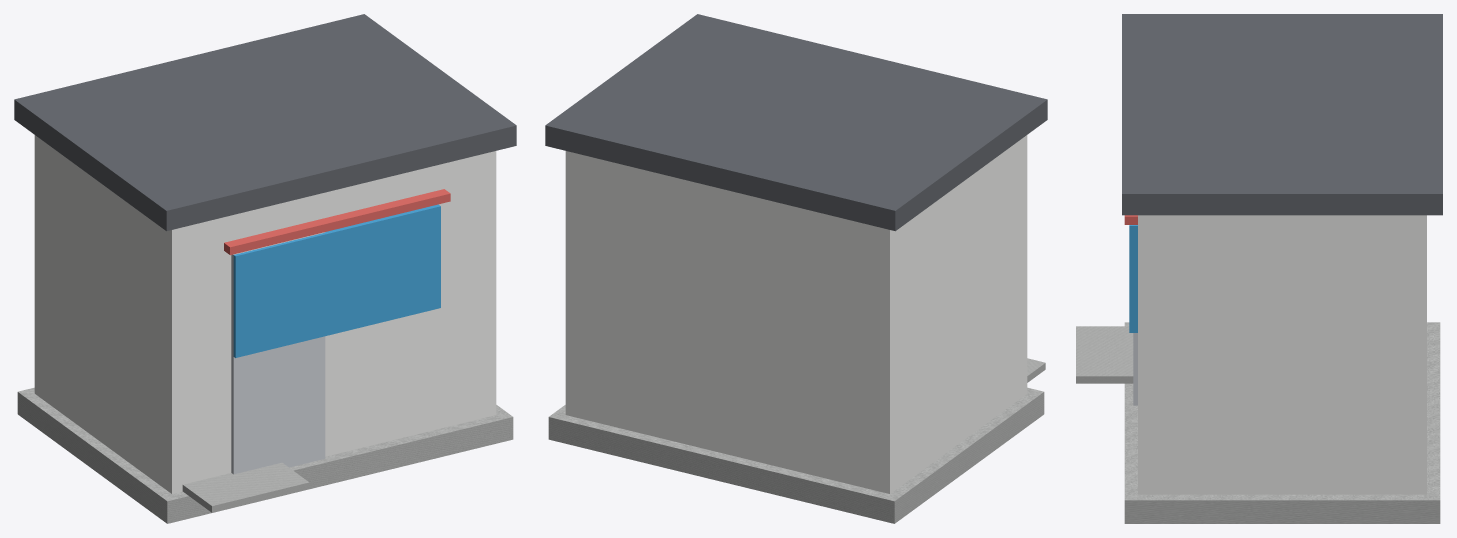
Rendered from velodrome-and-track-cycling-timing-hut-42e2d725__37992.glb.
3 renders of one model, left to right at view 1: azimuth 30°, elevation 25°; view 2: azimuth 150°, elevation 25°; view 3: azimuth 270°, elevation 25°, orthographic. The views are drawn at different scales.
Visible parts, largest first — view 1: timing-hut-chalk, timing-hut-charcoal, timing-hut-azure, timing-hut-apron, door-hut, timing-hut-red; view 2: timing-hut-chalk, timing-hut-charcoal, timing-hut-apron; view 3: timing-hut-chalk, timing-hut-charcoal, timing-hut-apron, timing-hut-azure.
Part boxes in pixels (x1,y1,x2,y2): timing-hut-chalk: (34, 135, 496, 493); timing-hut-charcoal: (14, 14, 516, 231); timing-hut-azure: (233, 204, 440, 357); timing-hut-apron: (17, 387, 513, 523); door-hut: (231, 232, 325, 474); timing-hut-red: (224, 189, 450, 255); timing-hut-chalk: (565, 135, 1027, 493); timing-hut-charcoal: (545, 14, 1047, 231); timing-hut-apron: (548, 358, 1045, 523); timing-hut-chalk: (1138, 215, 1426, 494); timing-hut-charcoal: (1122, 14, 1442, 215); timing-hut-apron: (1076, 322, 1440, 523); timing-hut-azure: (1129, 225, 1137, 332).
Size of the model in its own units: 3.24 by 2.78 by 2.79.
Materials: 6 (1 with a texture image).
